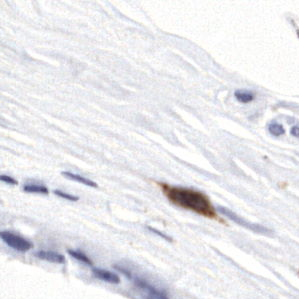Lymphocyte: (163, 183, 221, 219)
